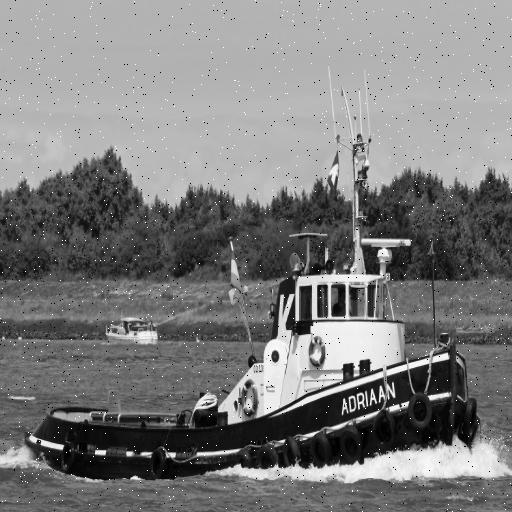tugboat: (20, 63, 490, 490)
